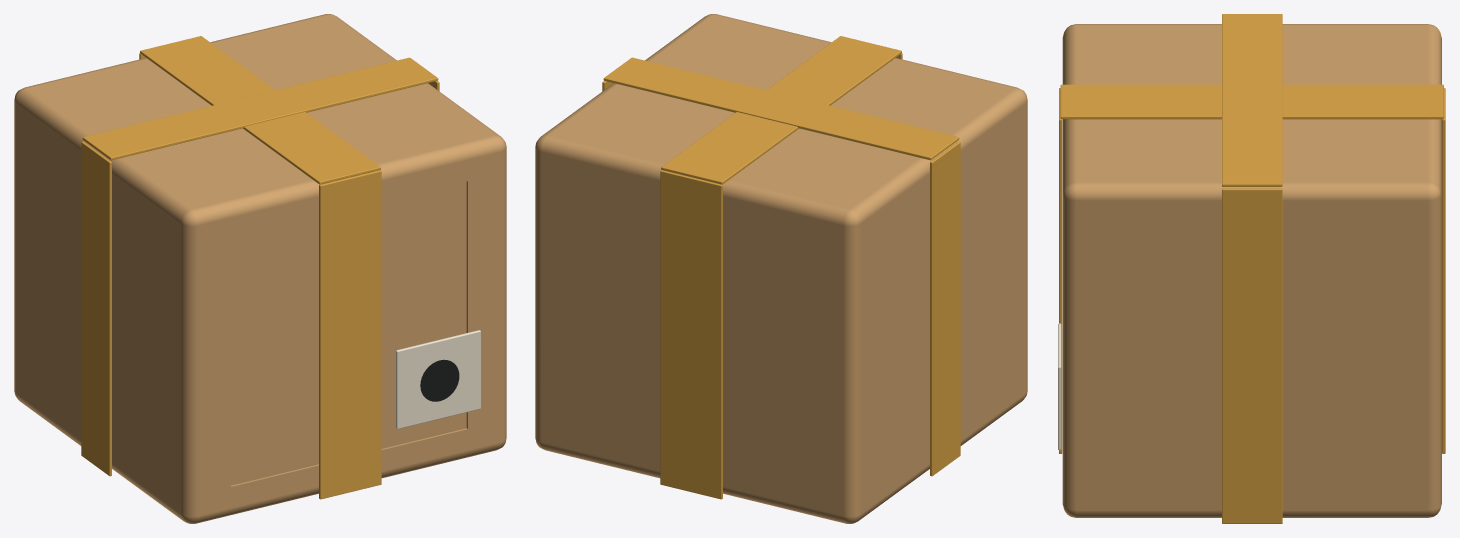
File: play-parcel-large-yellow.glb
3 renders of one model, left to right at view 1: azimuth 30°, elevation 25°; view 2: azimuth 150°, elevation 25°; view 3: azimuth 270°, elevation 25°, orthographic. The views are drawn at different scales.
Visible parts, largest first — view 1: Parcel_Carton, Parcel_Tape_Front_Back_0095, Parcel_Tape_Top_Cross, Parcel_Tape_Sides_-01, Parcel_Tape_Top_Length, Parcel_Paper_Label, Parcel_Label_Circle; view 2: Parcel_Carton, Parcel_Tape_Front_Back_-0095, Parcel_Tape_Top_Cross, Parcel_Tape_Sides_-01, Parcel_Tape_Top_Length; view 3: Parcel_Carton, Parcel_Tape_Sides_01, Parcel_Tape_Top_Length, Parcel_Tape_Top_Cross, Parcel_Tape_Front_Back_-0095, Parcel_Tape_Front_Back_0095, Parcel_Paper_Label.
Part boxes in pixels (x1=…): Parcel_Carton: x1=14, y1=14, x2=506, y2=523; Parcel_Tape_Front_Back_0095: x1=319, y1=170, x2=381, y2=499; Parcel_Tape_Top_Cross: x1=82, y1=57, x2=438, y2=160; Parcel_Tape_Sides_-01: x1=81, y1=141, x2=111, y2=476; Parcel_Tape_Top_Length: x1=140, y1=36, x2=380, y2=184; Parcel_Paper_Label: x1=395, y1=330, x2=480, y2=429; Parcel_Label_Circle: x1=420, y1=359, x2=459, y2=401; Parcel_Carton: x1=535, y1=14, x2=1027, y2=523; Parcel_Tape_Front_Back_-0095: x1=660, y1=170, x2=722, y2=499; Parcel_Tape_Top_Cross: x1=603, y1=57, x2=959, y2=160; Parcel_Tape_Sides_-01: x1=930, y1=141, x2=960, y2=476; Parcel_Tape_Top_Length: x1=661, y1=36, x2=901, y2=184; Parcel_Carton: x1=1062, y1=24, x2=1441, y2=517; Parcel_Tape_Sides_01: x1=1222, y1=188, x2=1282, y2=523; Parcel_Tape_Top_Length: x1=1060, y1=84, x2=1443, y2=119; Parcel_Tape_Top_Cross: x1=1222, y1=14, x2=1282, y2=186; Parcel_Tape_Front_Back_-0095: x1=1442, y1=88, x2=1445, y2=453; Parcel_Tape_Front_Back_0095: x1=1059, y1=88, x2=1062, y2=453; Parcel_Paper_Label: x1=1058, y1=323, x2=1061, y2=450.
Size of the model in its own units: 0.2037 by 0.1877 by 0.195.
